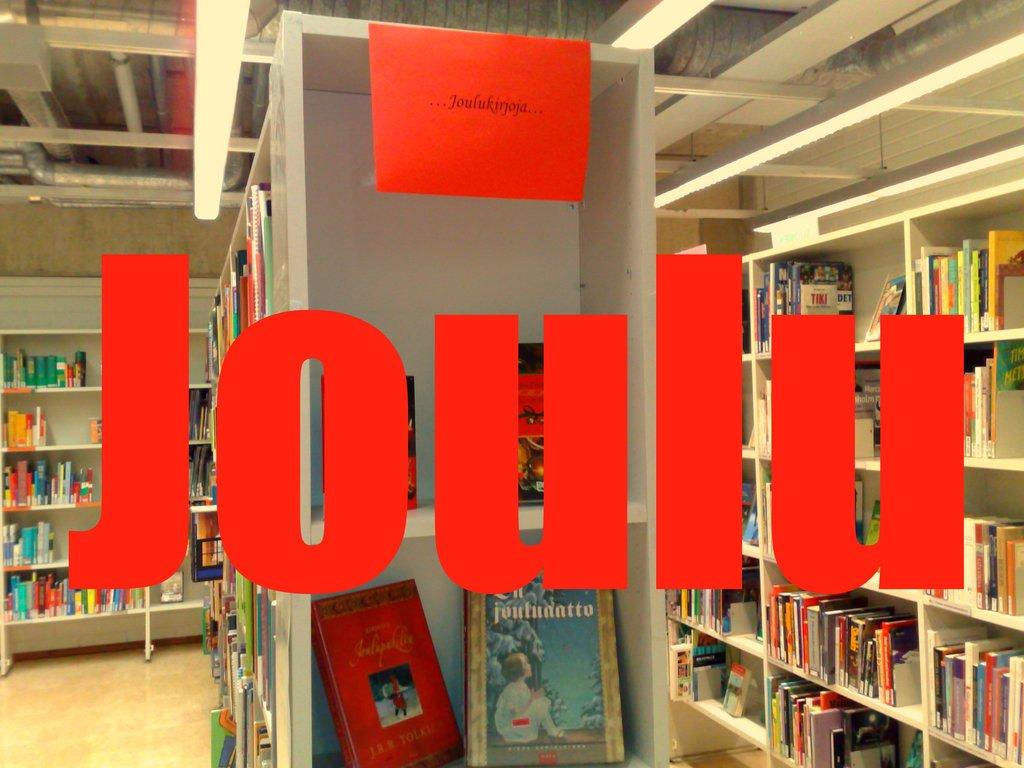Book: (662, 230, 1023, 767), (188, 181, 272, 767), (0, 569, 157, 619), (0, 454, 97, 511), (1, 348, 91, 388), (0, 521, 56, 566), (0, 406, 47, 451)
